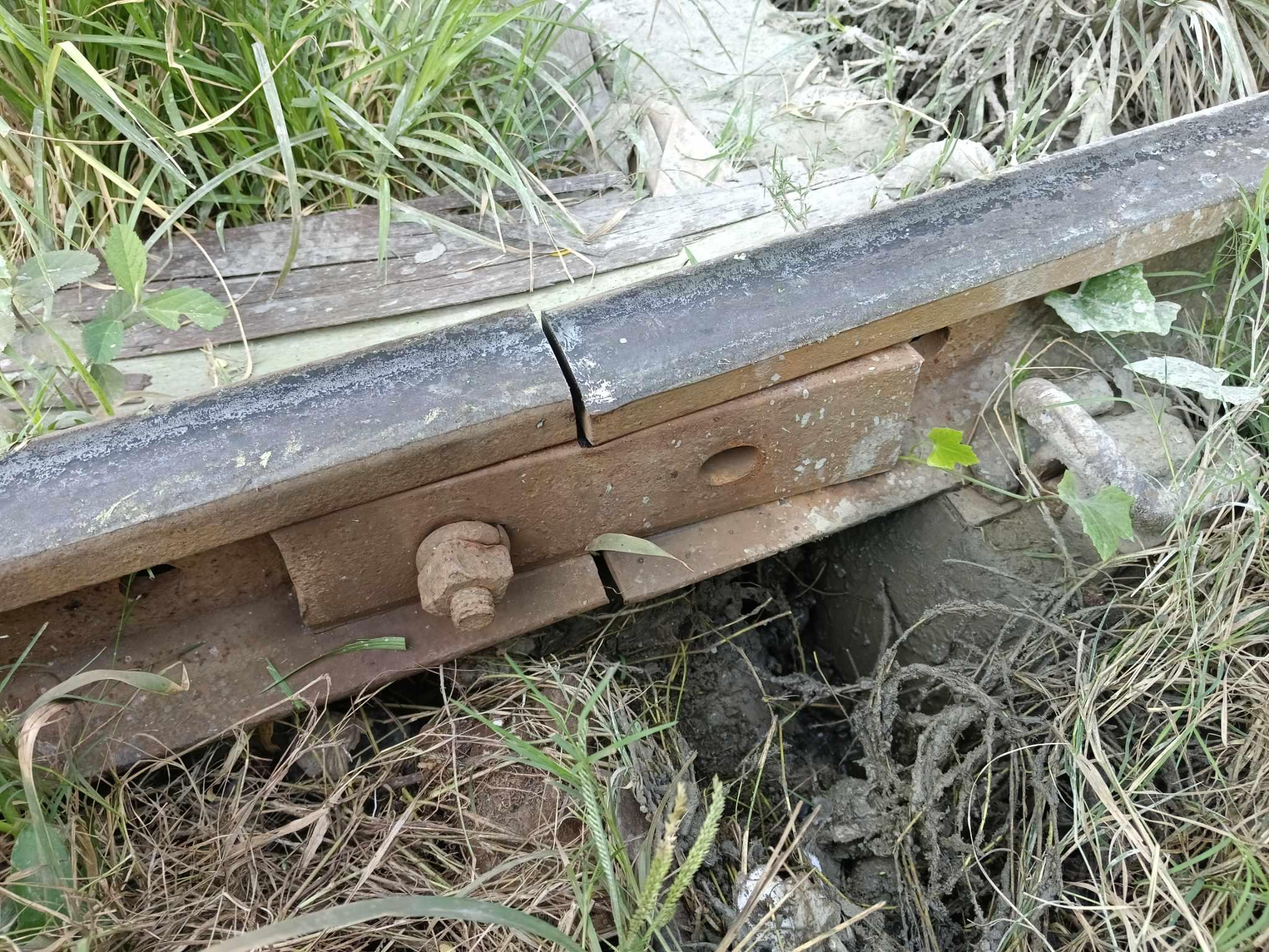railway-gap: (467, 274, 664, 470), (526, 496, 684, 659)
